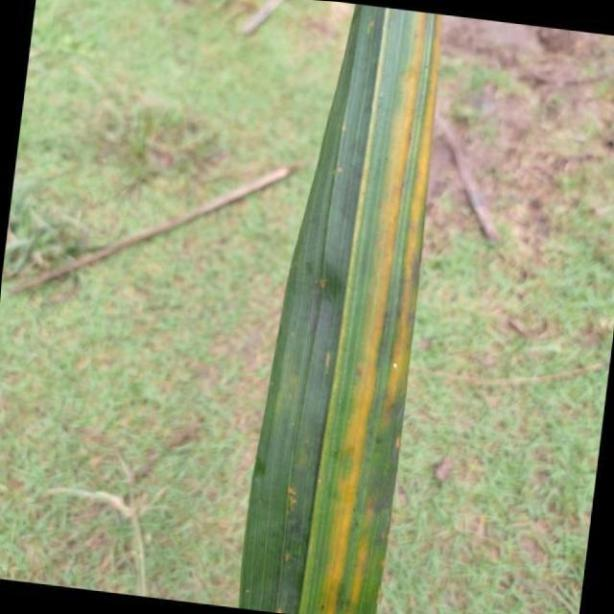Megnesium: (242, 0, 438, 614)
